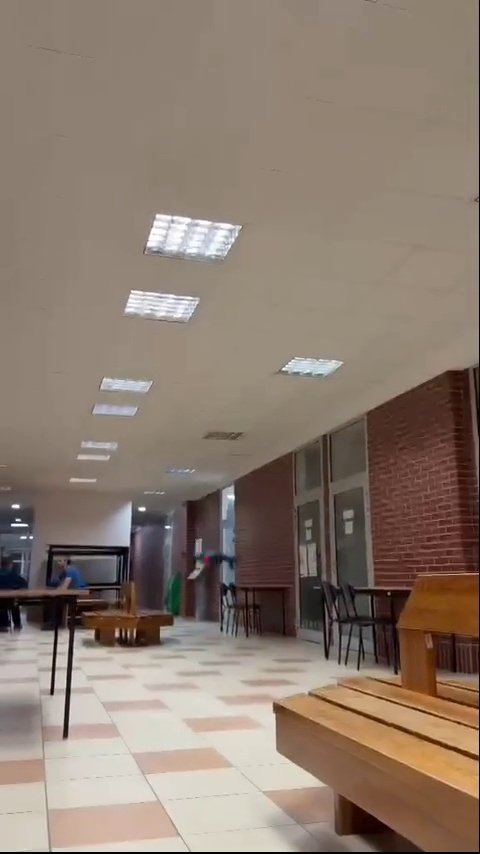drone: (188, 545, 239, 568)
no vest: (44, 548, 89, 608)
